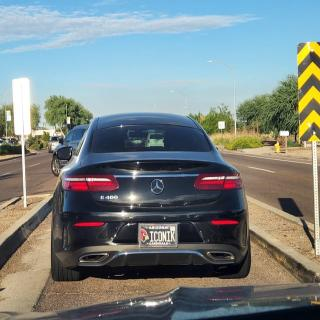license: (138, 223, 179, 249)
